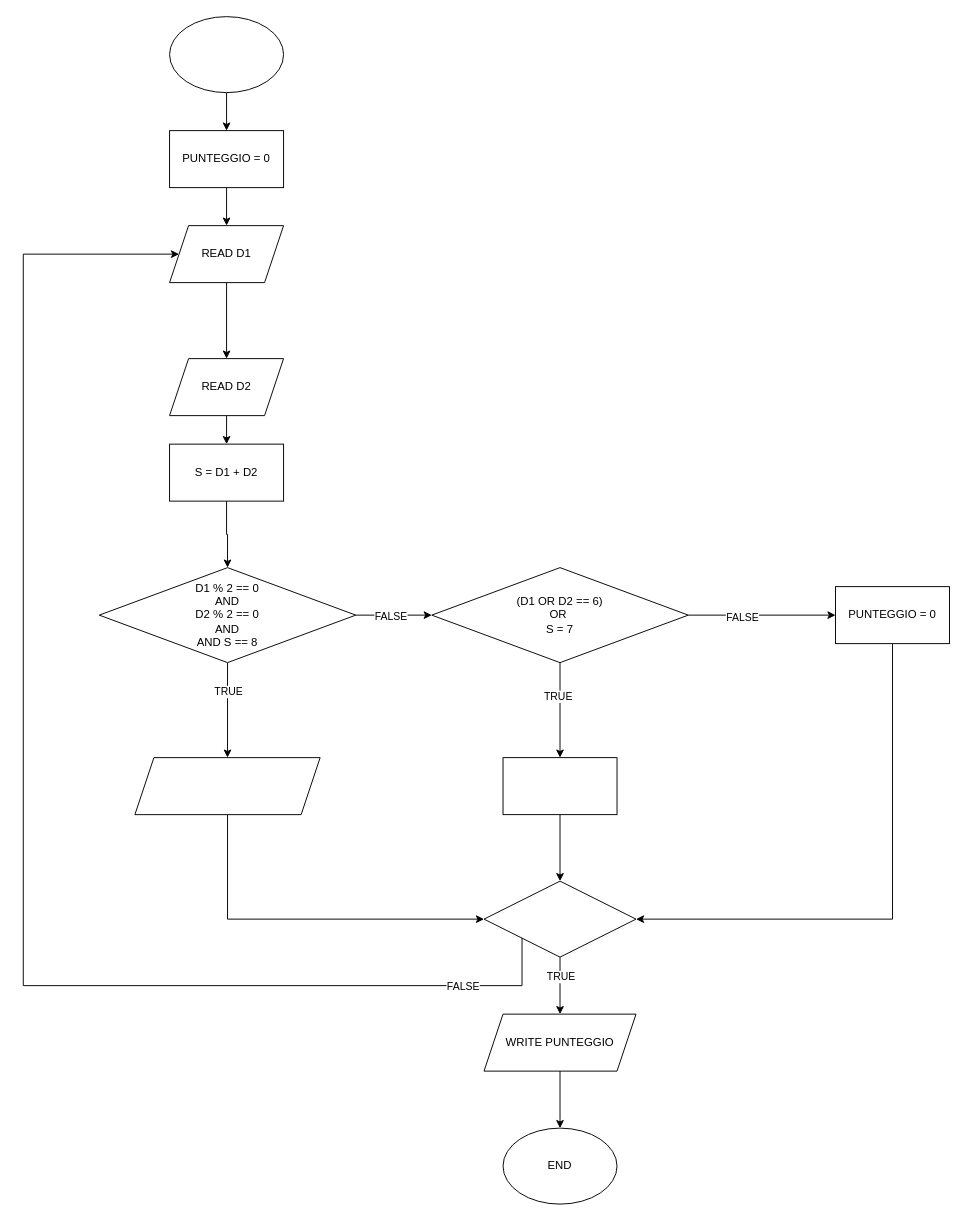
This 966x1221 diagram has some shape labels left out. Here are the shapes that lost their labels. From the top down, the box of each, then its label:
(169, 16, 284, 93): START
(134, 757, 320, 815): WRITE " GIOCATORE VINCE PUNTEGGIO = 100"
(502, 757, 617, 815): PUNTEGGIO += 10
(483, 880, 636, 957): PUNTEGGIO == 100
